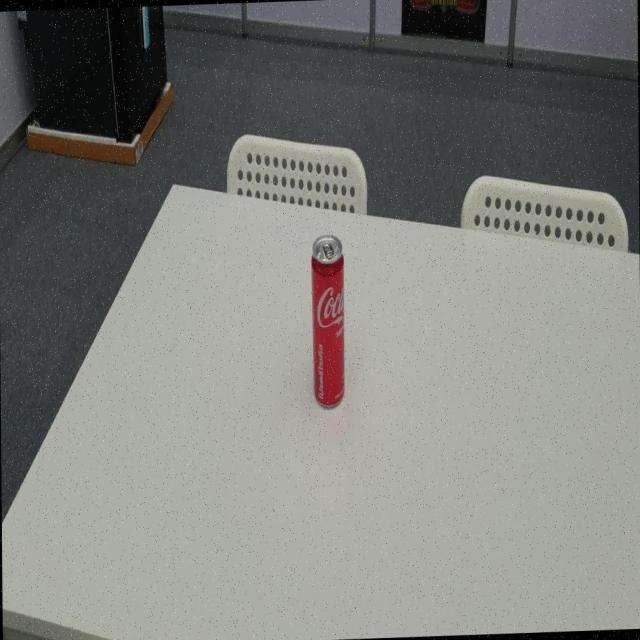coca-cola: (308, 232, 348, 416)
